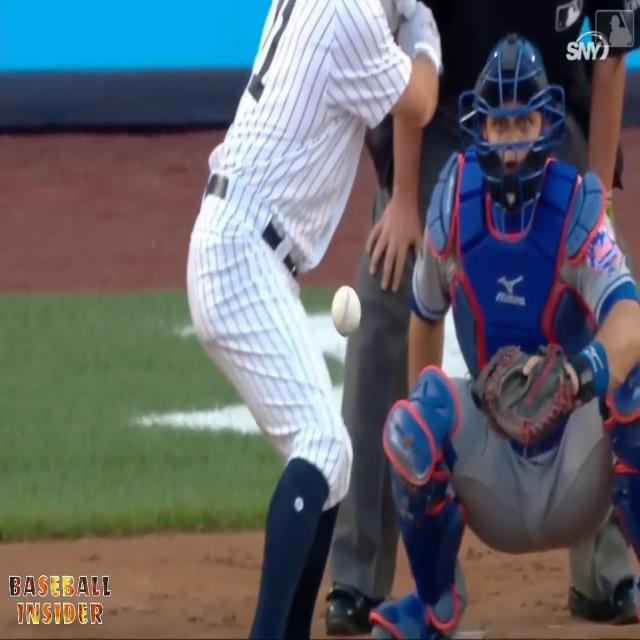baseball: (330, 284, 362, 336)
